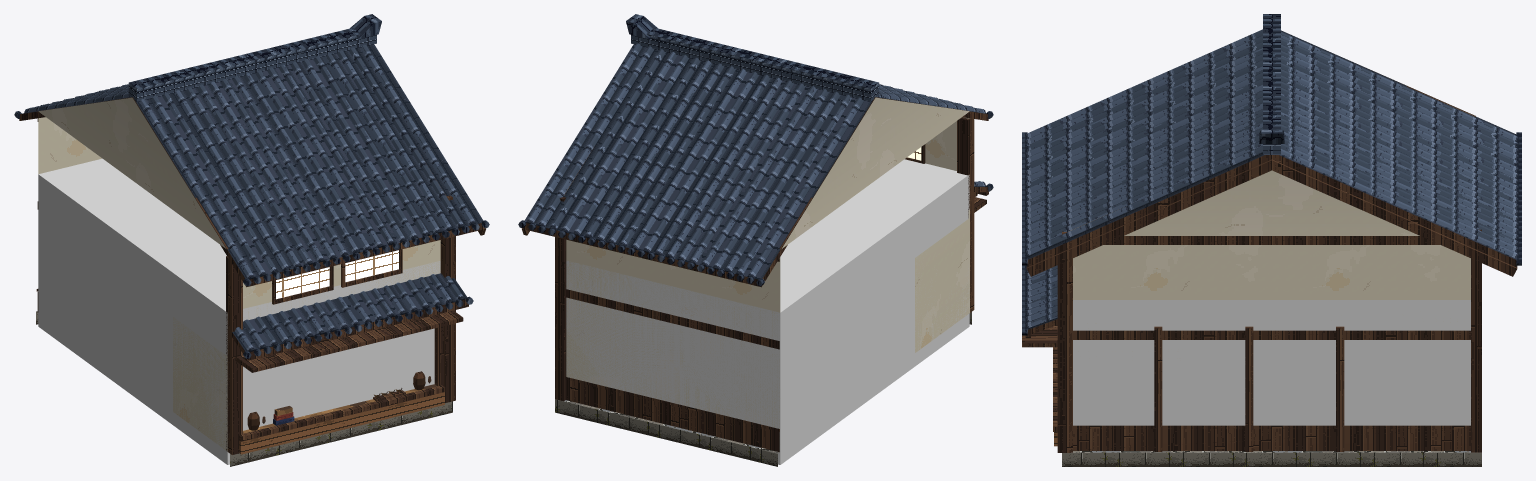
File: JP_Row_Shop_A_R.glb
3 renders of one model, left to right at view 1: azimuth 30°, elevation 25°; view 2: azimuth 150°, elevation 25°; view 3: azimuth 270°, elevation 25°, orthographic. The views are drawn at different scales.
Parts seen in each view (by area): view 1: JP_Row_Shop_A_R, COL_JP_Row_Shop_A_R; view 2: JP_Row_Shop_A_R, COL_JP_Row_Shop_A_R; view 3: JP_Row_Shop_A_R, COL_JP_Row_Shop_A_R.
Part boxes in pixels (bbox=[...]): JP_Row_Shop_A_R: bbox=[14, 14, 489, 466]; COL_JP_Row_Shop_A_R: bbox=[38, 158, 440, 464]; JP_Row_Shop_A_R: bbox=[518, 14, 993, 466]; COL_JP_Row_Shop_A_R: bbox=[566, 159, 969, 464]; JP_Row_Shop_A_R: bbox=[1022, 14, 1521, 466]; COL_JP_Row_Shop_A_R: bbox=[1073, 300, 1470, 425].
Size of the model in its own units: 6.8 by 8.36 by 11.
15 materials, 15 textured.
